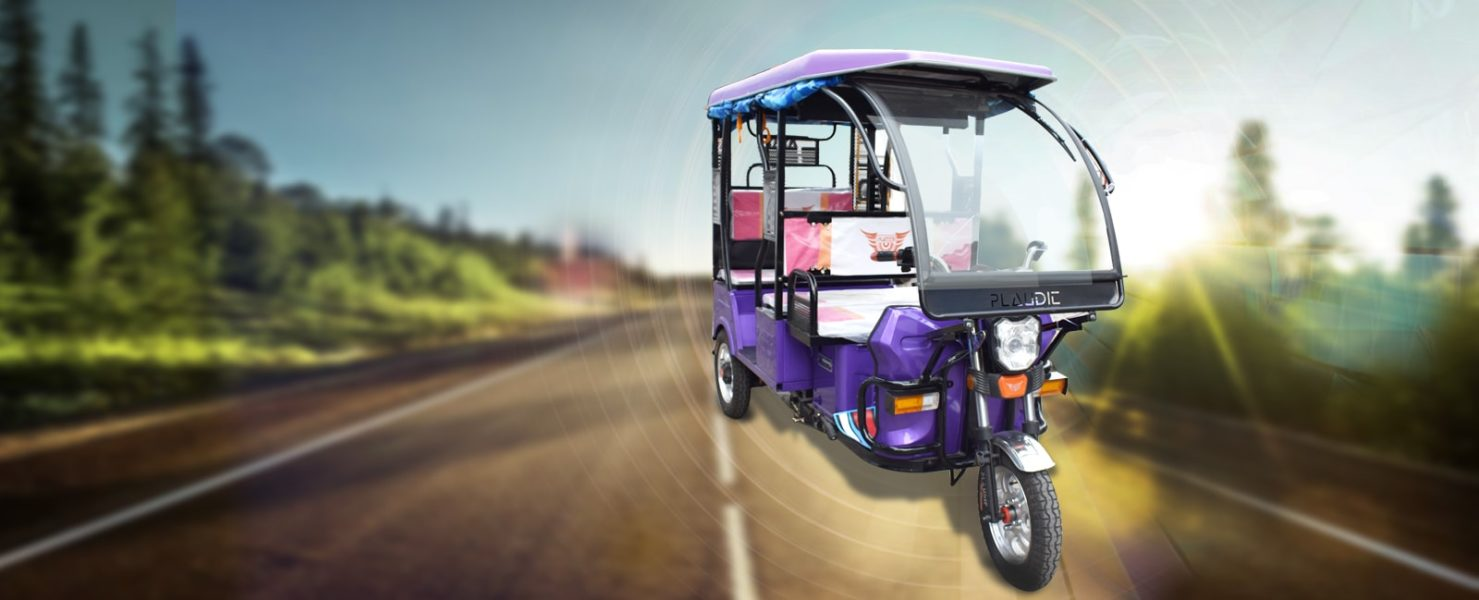auto rickshaw: (706, 48, 1127, 589)
